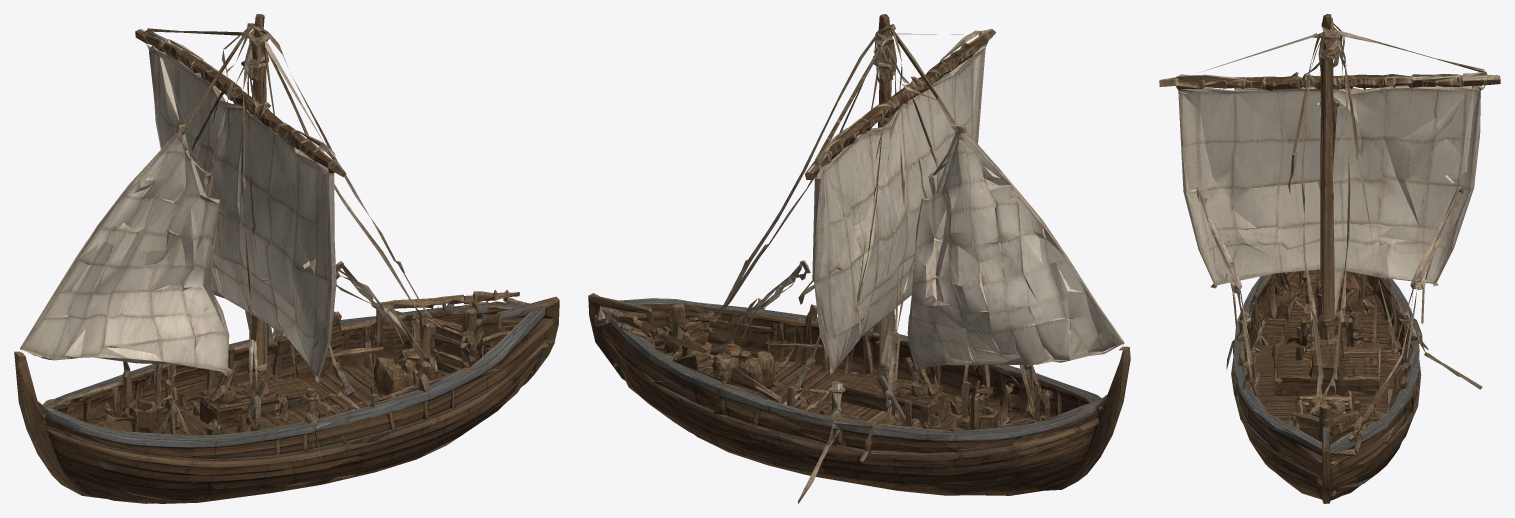
The model's file is cog.glb.
The picture shows the model from 3 angles, left to right: view 1: azimuth 30°, elevation 25°; view 2: azimuth 150°, elevation 25°; view 3: azimuth 270°, elevation 25°; orthographic projection. The views are drawn at different scales.
Visible parts, largest first — view 1: cog; view 2: cog; view 3: cog.
Boxes of the visible parts, box(x1,y1,x2,y2) form: cog: box(14, 14, 559, 503); cog: box(588, 14, 1130, 503); cog: box(1159, 14, 1500, 503).
Size of the model in its own units: 16 by 12.89 by 9.97.
1 material, 1 textured.
